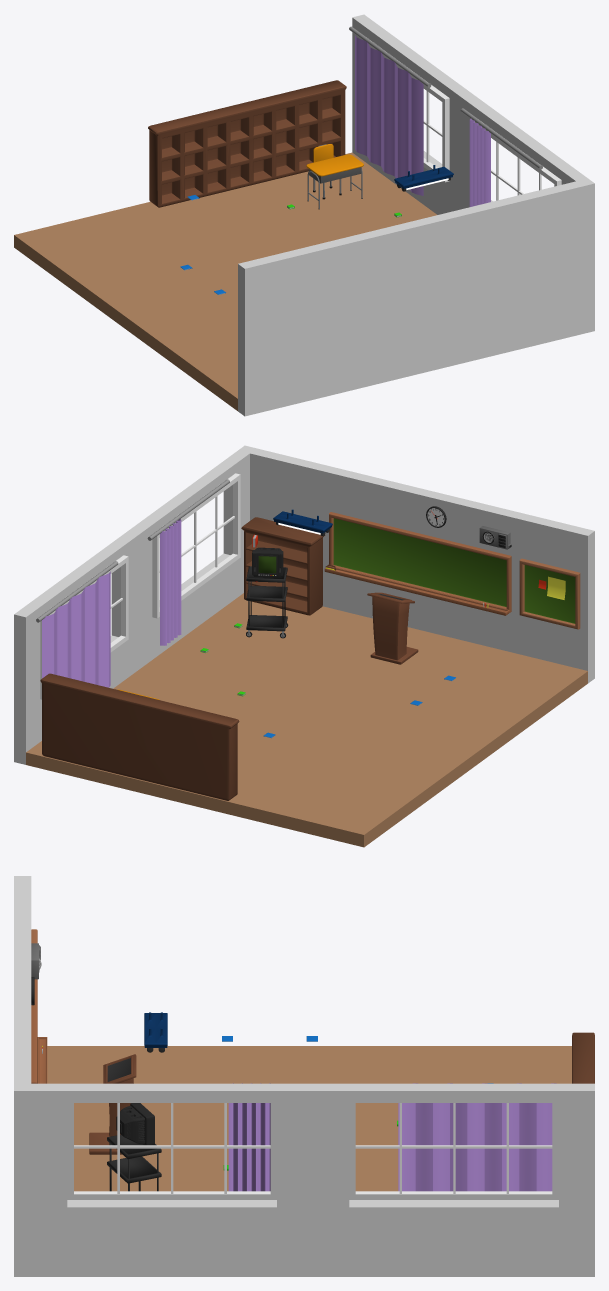
The model's file is demoscene.glb.
The picture shows the model from 3 angles, top to bottom: view 1: azimuth 30°, elevation 25°; view 2: azimuth 150°, elevation 25°; view 3: azimuth 270°, elevation 25°; orthographic projection. The views are drawn at different scales.
Visible parts, largest first — view 1: Plane.001, Cube.034, Cylinder.011, Plane.007, Cube.032, Cube.035; view 2: Plane.001, Cube.034, Cube.018, Cylinder.011, Cube.033, Cube.022, Plane.007, Cube.038, Cube.037, Cube.035, Cube.036; view 3: Plane.001, Cylinder.011, Plane.007, Cube.038, Cube.037, Cube.034, Cube.018, Cube.035.
Part boxes in pixels (x1,y1,x2,y2): Plane.001: [14, 14, 594, 416]; Cube.034: [148, 80, 346, 207]; Cylinder.011: [349, 26, 431, 195]; Plane.007: [460, 108, 542, 206]; Cube.032: [306, 144, 363, 209]; Cube.035: [394, 165, 453, 191]; Plane.001: [14, 445, 594, 847]; Cube.034: [40, 673, 239, 800]; Cube.018: [324, 512, 511, 615]; Cylinder.011: [36, 561, 118, 687]; Cube.033: [241, 517, 325, 615]; Cube.022: [519, 558, 580, 629]; Plane.007: [147, 479, 229, 645]; Cube.038: [246, 547, 288, 638]; Cube.037: [367, 592, 418, 664]; Cube.035: [273, 509, 332, 536]; Cube.036: [479, 526, 511, 549]; Plane.001: [14, 876, 594, 1276]; Cylinder.011: [398, 1083, 556, 1191]; Plane.007: [228, 1083, 270, 1191]; Cube.038: [107, 1103, 161, 1191]; Cube.037: [89, 1054, 136, 1154]; Cube.034: [572, 1032, 594, 1083]; Cube.018: [31, 979, 47, 1083]; Cube.035: [144, 1012, 167, 1052].
Size of the model in its own units: 8.78 by 3.54 by 10.03.
Materials: 3 (2 with a texture image).
